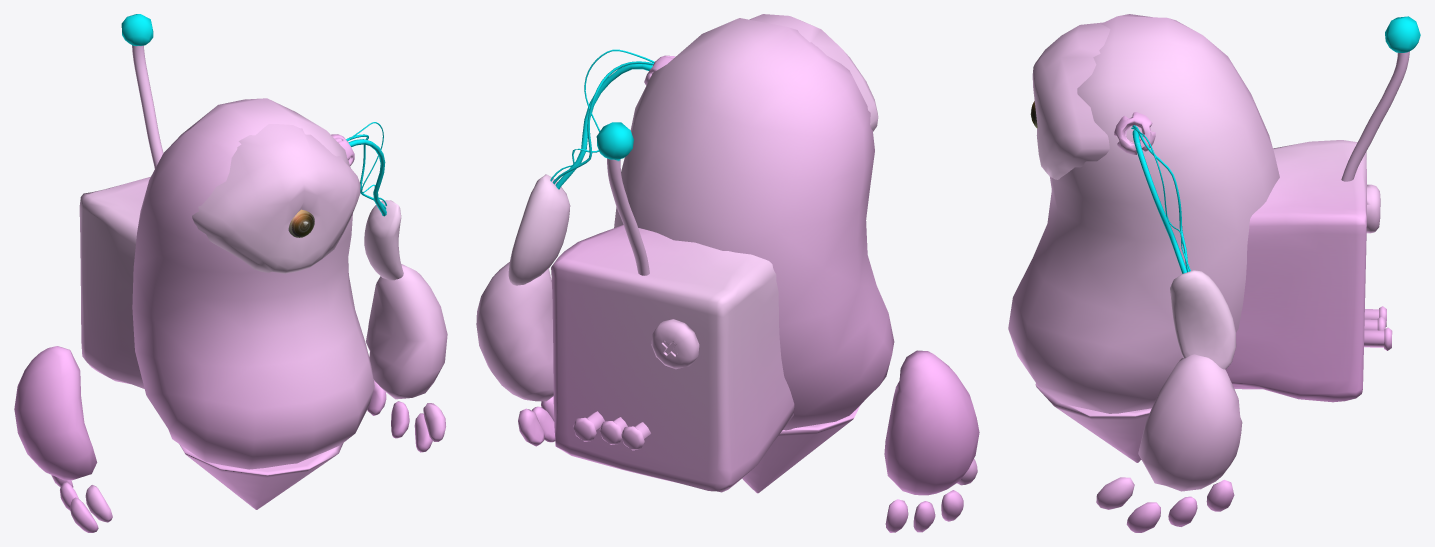
File: kevin_textured.fbx
3 views of the same model, side by side, from view 1: azimuth 30°, elevation 25°; view 2: azimuth 150°, elevation 25°; view 3: azimuth 270°, elevation 25° (orthographic). The views are drawn at different scales.
Visible parts, largest first — view 1: kevin; view 2: kevin; view 3: kevin.
Boxes of the visible parts, x1,y1,x2,y2 form: kevin: [14, 14, 447, 532]; kevin: [476, 14, 979, 532]; kevin: [1008, 14, 1420, 532].
Bounding box in the file's own units: 1.65 × 1.53 × 1.28.
1 material, 1 textured.
